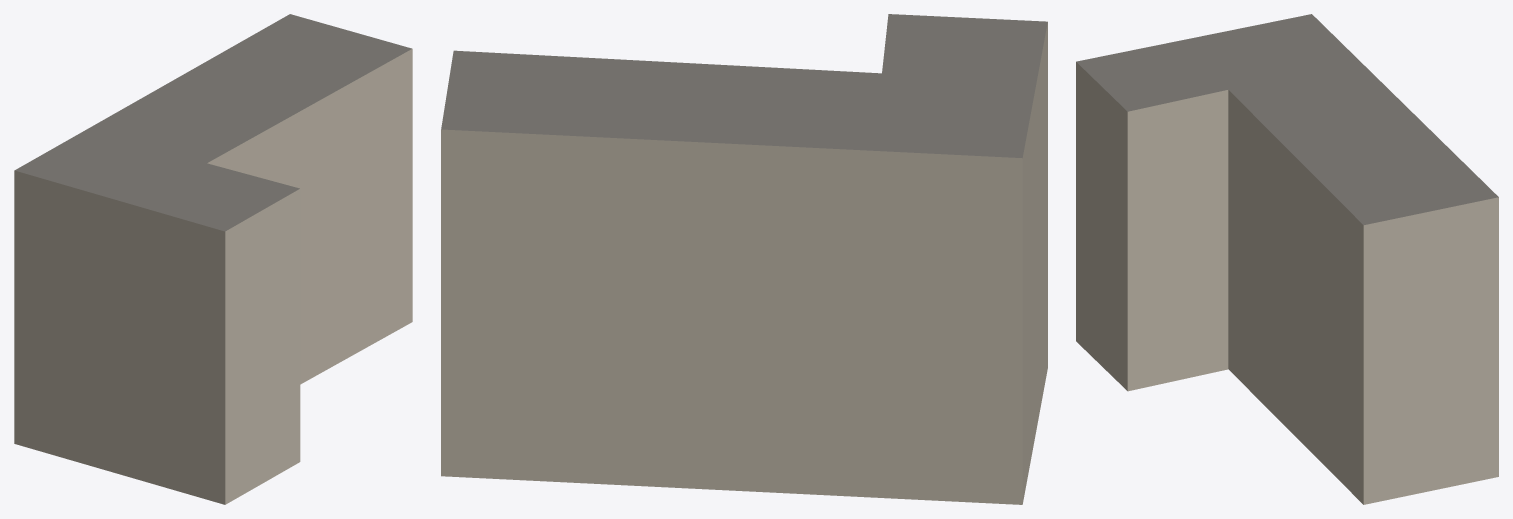
The picture shows the model from 3 angles, left to right: view 1: azimuth 30°, elevation 25°; view 2: azimuth 150°, elevation 25°; view 3: azimuth 270°, elevation 25°; orthographic projection. The views are drawn at different scales.
Parts seen in each view (by area): view 1: HP-w505633363; view 2: HP-w505633363; view 3: HP-w505633363.
Boxes of the visible parts, x1,y1,x2,y2 form: HP-w505633363: [14, 14, 412, 504]; HP-w505633363: [441, 14, 1047, 504]; HP-w505633363: [1076, 14, 1498, 504].
Bounding box in the file's own units: 29.17 × 18 × 24.67.
